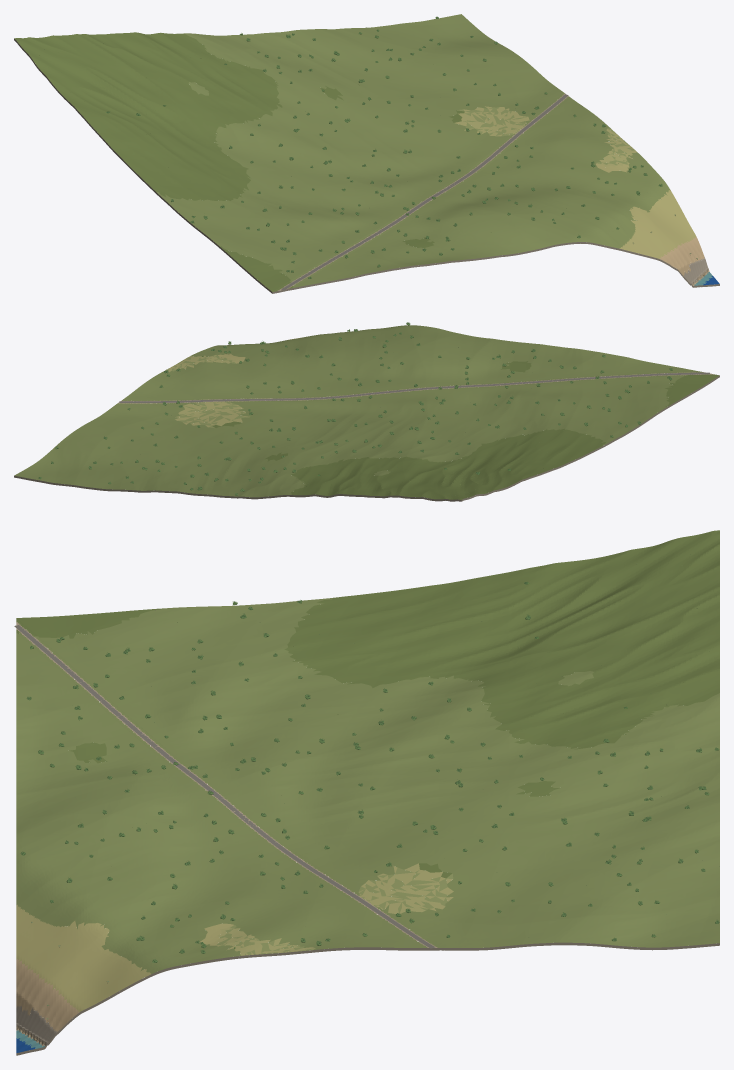
The model's file is parca_+8_-8-yakin.glb.
3 renders of one model, top to bottom at view 1: azimuth 30°, elevation 25°; view 2: azimuth 150°, elevation 25°; view 3: azimuth 270°, elevation 25°, orthographic. The views are drawn at different scales.
Visible parts, largest first — view 1: parca_+8_-8_arazi, parca_+8_-8_bitkiler, parca_+8_-8_yollar; view 2: parca_+8_-8_arazi, parca_+8_-8_bitkiler, parca_+8_-8_yollar; view 3: parca_+8_-8_arazi, parca_+8_-8_bitkiler, parca_+8_-8_yollar.
Boxes of the visible parts, left/top/right/bottom form: parca_+8_-8_arazi: left=14, top=14, right=719, bottom=293; parca_+8_-8_bitkiler: left=39, top=16, right=697, bottom=278; parca_+8_-8_yollar: left=281, top=94, right=568, bottom=290; parca_+8_-8_arazi: left=14, top=325, right=719, bottom=501; parca_+8_-8_bitkiler: left=38, top=322, right=672, bottom=495; parca_+8_-8_yollar: left=119, top=372, right=709, bottom=402; parca_+8_-8_arazi: left=16, top=530, right=719, bottom=1055; parca_+8_-8_bitkiler: left=21, top=554, right=719, bottom=1019; parca_+8_-8_yollar: left=14, top=625, right=434, bottom=948.
Bounding box in the file's own units: 1006 × 358 × 1004.
